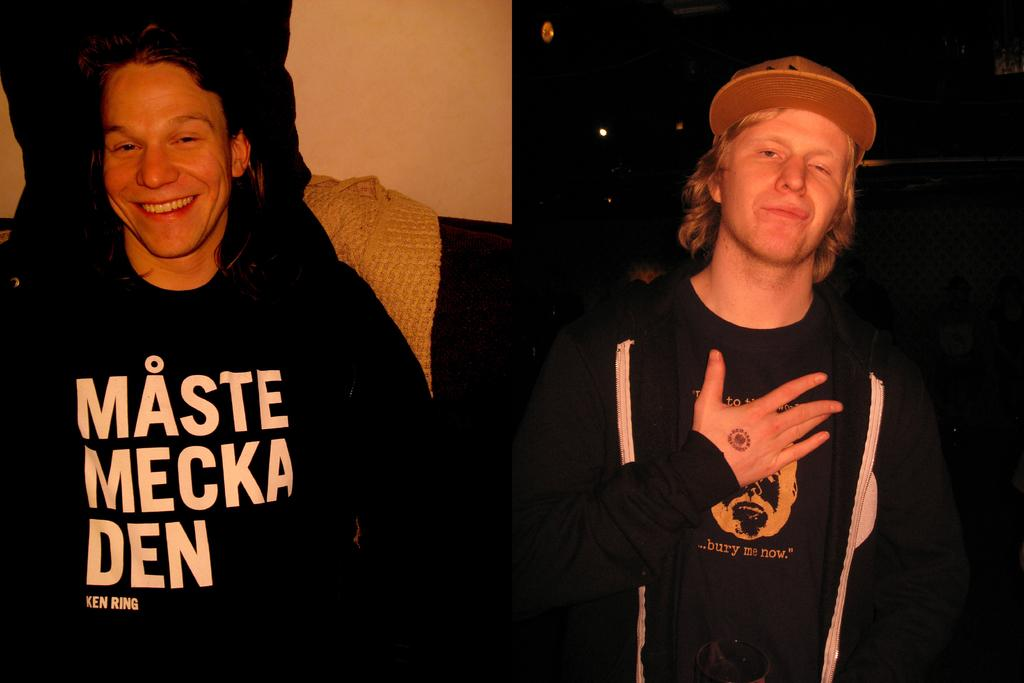Hat: (706, 52, 876, 161)
